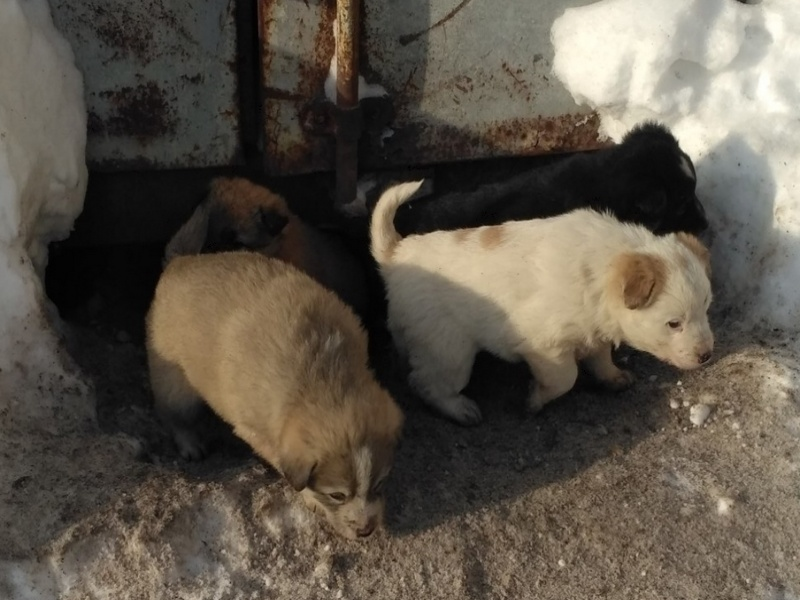dog: (367, 181, 724, 416), (149, 234, 401, 547), (351, 142, 712, 242), (163, 179, 320, 290)
